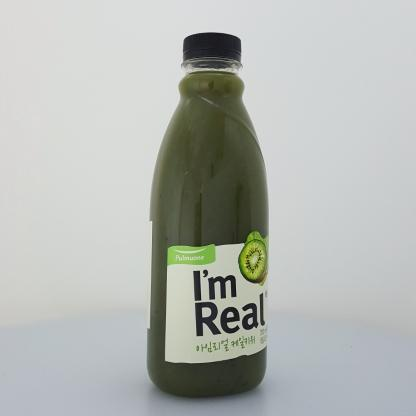-----------700ML: (147, 32, 268, 398)
